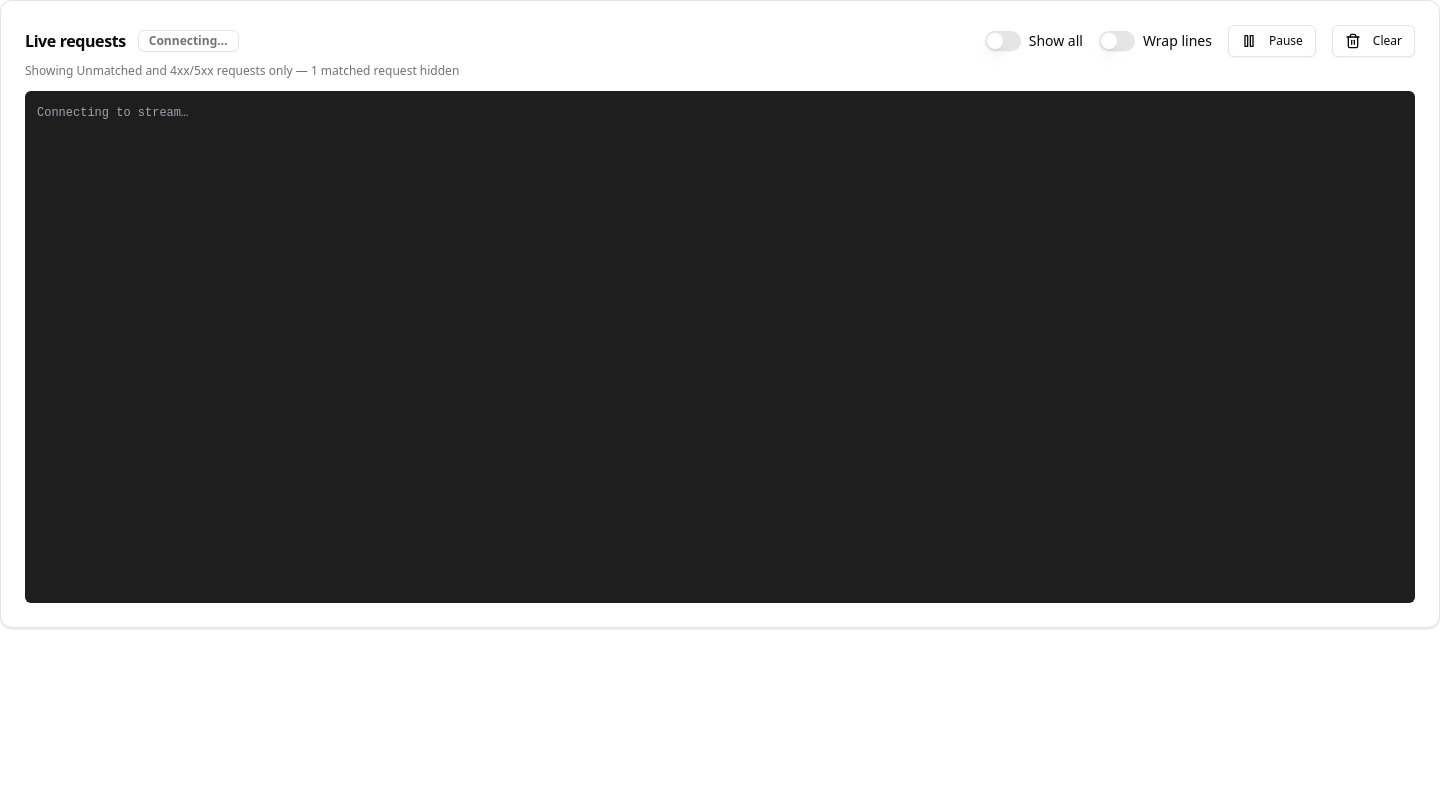
Test: LiveTrafficTab › reveals all traffic when "Show all" is toggled
Expected: the text "MATCHED-OK-LINE" is not shown
Click the switch named "show all" next to "Show all" at {"x": 1003, "y": 41}, box [985,31,1021,51]
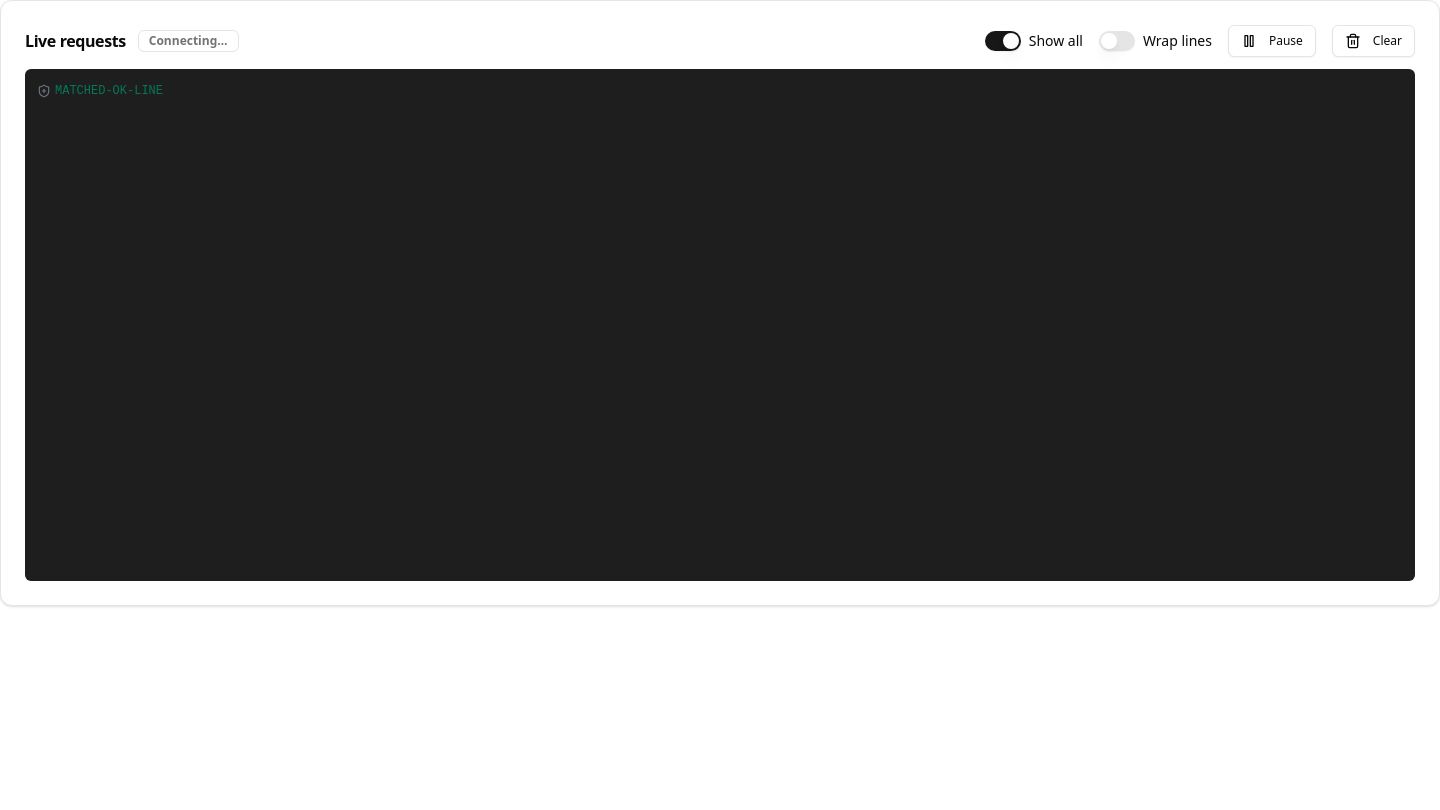
Expected: the text "MATCHED-OK-LINE" is shown, [55,84,163,98]
